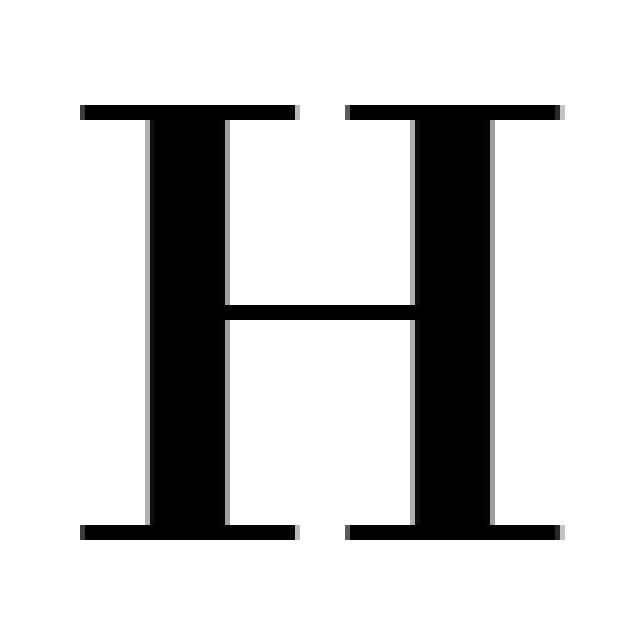H: (80, 105, 565, 540)
